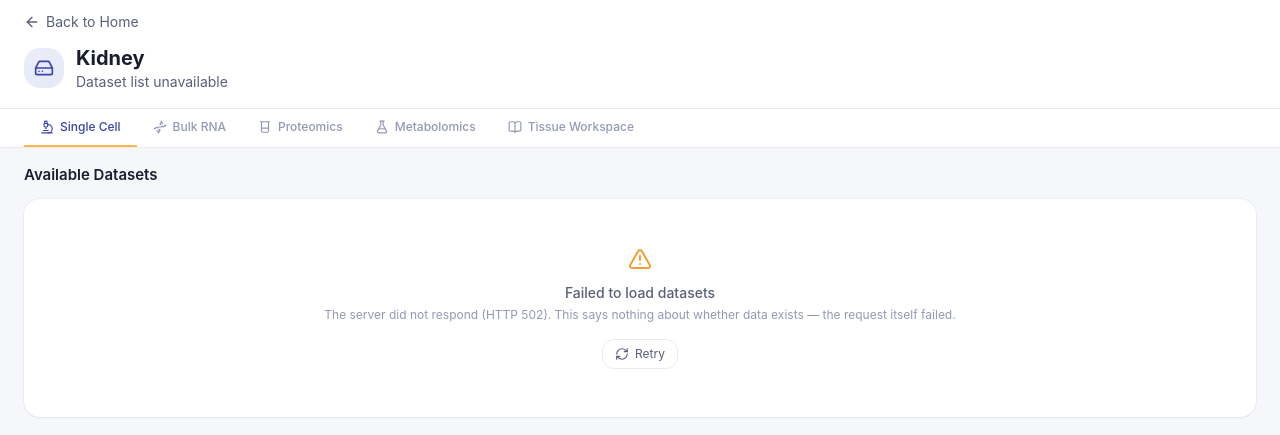
TissuePage — load failure vs. genuinely empty tissue › offers a retry that recovers once the backend is back
This screenshot has width=1280, height=435.
Click the button "Retry" at (640, 354), box [602, 338, 678, 368]
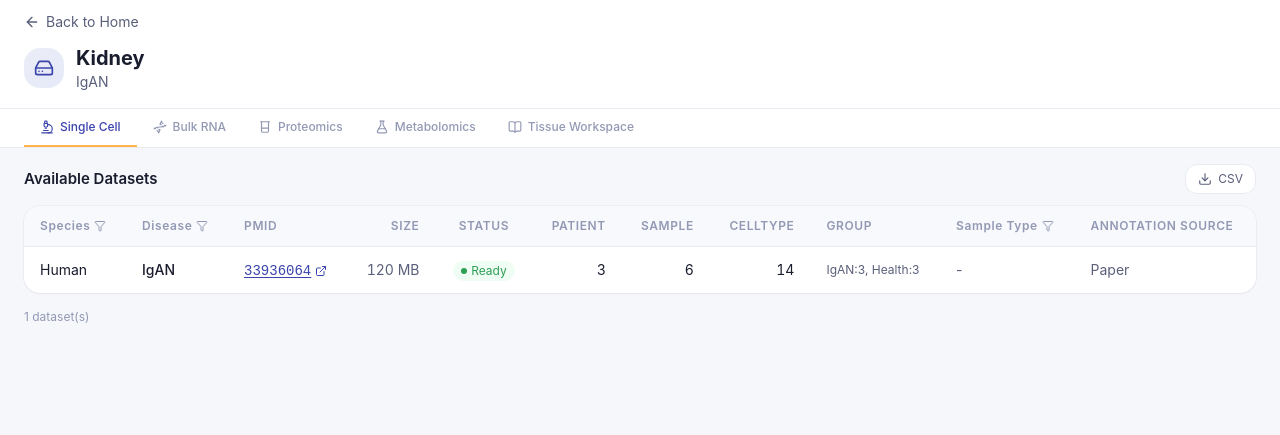
Check: the text "Failed to load datasets" is gone
